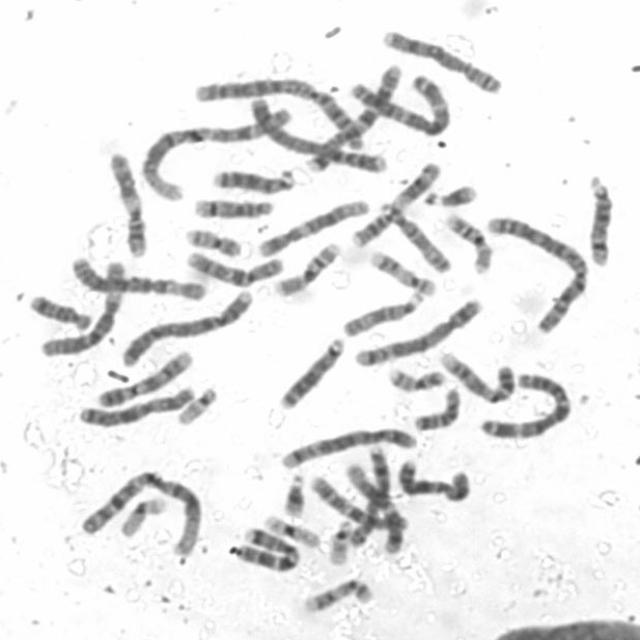A1: (137, 100, 295, 201), (76, 466, 204, 555)
A2: (190, 73, 373, 152), (484, 212, 590, 336)
A3: (475, 368, 574, 441), (347, 70, 452, 137)
B4: (243, 94, 389, 174), (118, 285, 256, 369)
B5: (350, 294, 484, 368), (278, 424, 419, 470)
C10: (307, 472, 411, 533), (183, 248, 284, 290)
C11: (347, 159, 443, 249), (105, 148, 148, 258)
C12: (254, 195, 369, 259), (345, 461, 410, 556)
C6: (35, 255, 130, 359), (66, 254, 210, 302)
C7: (302, 60, 403, 174), (227, 524, 301, 573)
C8: (379, 26, 504, 96), (349, 444, 390, 548)
C9: (94, 347, 195, 409), (436, 348, 516, 404)
D13: (275, 334, 346, 410), (210, 164, 294, 196)
D14: (583, 171, 614, 269), (190, 194, 275, 221)
D15: (376, 197, 452, 275), (340, 287, 428, 338)
E16: (271, 239, 342, 299), (443, 210, 495, 275)
E17: (367, 247, 438, 297), (299, 574, 374, 614)
E18: (27, 290, 93, 332), (410, 384, 460, 432)
F19: (115, 493, 169, 538), (260, 511, 322, 549)
F20: (182, 226, 244, 258), (385, 364, 445, 393)
G21: (421, 181, 479, 208), (280, 469, 308, 518)
G22: (173, 384, 220, 426), (324, 518, 354, 566)
X: (74, 382, 197, 428), (393, 456, 472, 504)
